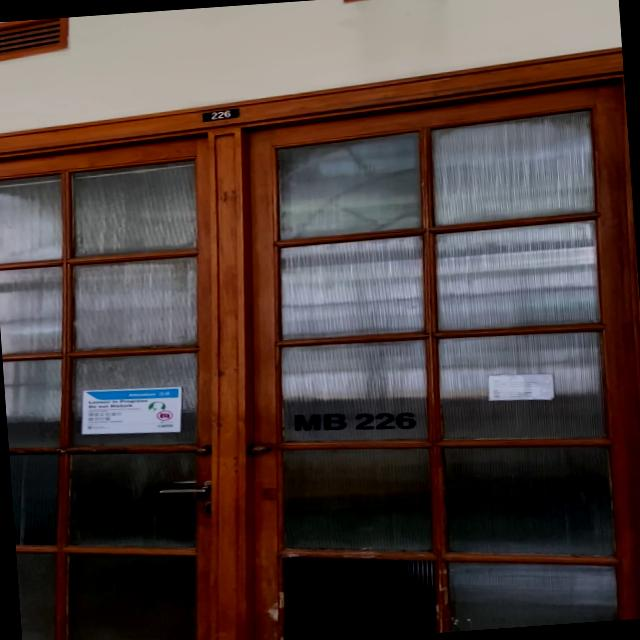room226: (201, 106, 243, 122)
room226Window: (291, 401, 419, 440)
